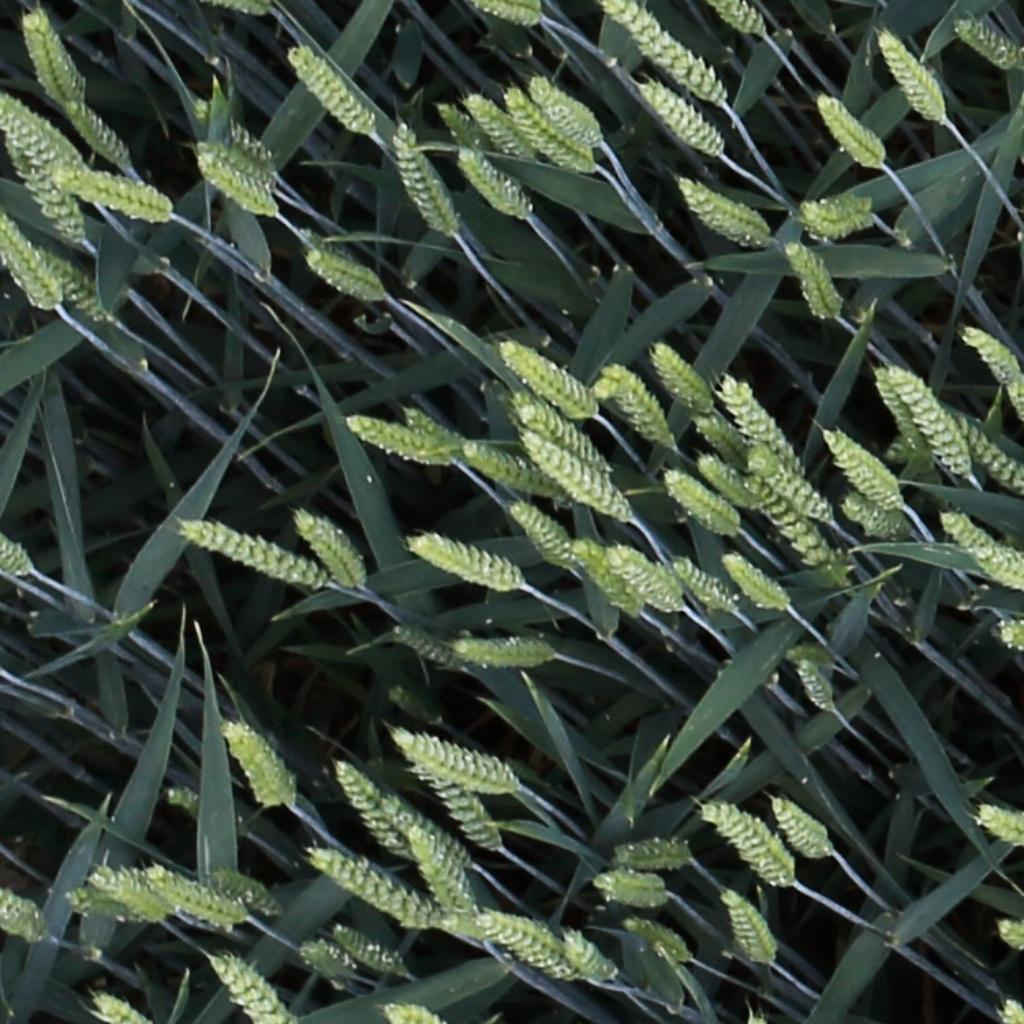0-0: (603, 0, 727, 107), (304, 850, 451, 931), (714, 372, 816, 488), (2, 122, 88, 248), (0, 90, 93, 198), (744, 461, 838, 565), (178, 521, 323, 588), (890, 363, 973, 479), (524, 438, 632, 522), (386, 118, 458, 238), (412, 760, 501, 856), (283, 43, 374, 136), (872, 23, 950, 129), (51, 166, 175, 230), (501, 86, 592, 173), (327, 756, 404, 858), (496, 339, 595, 417), (218, 719, 297, 815), (701, 804, 794, 883), (470, 907, 570, 980), (390, 735, 513, 791), (819, 427, 902, 509), (636, 76, 723, 154), (405, 535, 527, 590), (675, 177, 773, 245), (20, 5, 83, 110), (514, 401, 607, 472), (599, 360, 673, 449), (745, 450, 834, 524), (460, 435, 559, 501), (376, 801, 471, 869), (959, 322, 1024, 421), (0, 212, 64, 312), (206, 953, 295, 1024), (402, 831, 471, 922), (289, 507, 363, 591), (566, 539, 643, 617), (55, 92, 132, 169), (953, 420, 1024, 503), (525, 75, 605, 146), (812, 90, 886, 166), (143, 871, 243, 927), (35, 248, 105, 328), (660, 472, 743, 539), (947, 520, 1024, 592), (90, 863, 175, 926), (454, 147, 529, 218), (461, 88, 533, 161), (780, 234, 841, 320), (192, 151, 273, 215), (718, 884, 778, 970), (303, 249, 395, 303), (647, 339, 714, 413), (608, 546, 682, 613), (342, 415, 446, 462), (506, 501, 576, 570), (871, 363, 927, 446), (720, 552, 789, 613), (329, 924, 406, 976), (765, 798, 831, 857), (450, 635, 562, 669), (694, 454, 759, 512), (206, 871, 281, 921), (670, 558, 734, 615), (390, 625, 464, 673), (791, 198, 882, 237), (690, 412, 752, 469), (954, 19, 1024, 69), (789, 652, 839, 719), (197, 139, 268, 184), (557, 928, 615, 983), (217, 117, 275, 172), (590, 868, 669, 906), (603, 835, 693, 868), (623, 918, 692, 961), (841, 495, 906, 539), (939, 509, 998, 557), (401, 404, 458, 453), (970, 546, 1024, 592), (975, 803, 1024, 848), (297, 937, 354, 974), (475, 0, 543, 31), (88, 992, 151, 1024), (0, 890, 39, 940), (712, 0, 765, 36), (0, 529, 35, 580), (380, 1004, 447, 1024), (996, 619, 1024, 647), (998, 924, 1024, 946)
